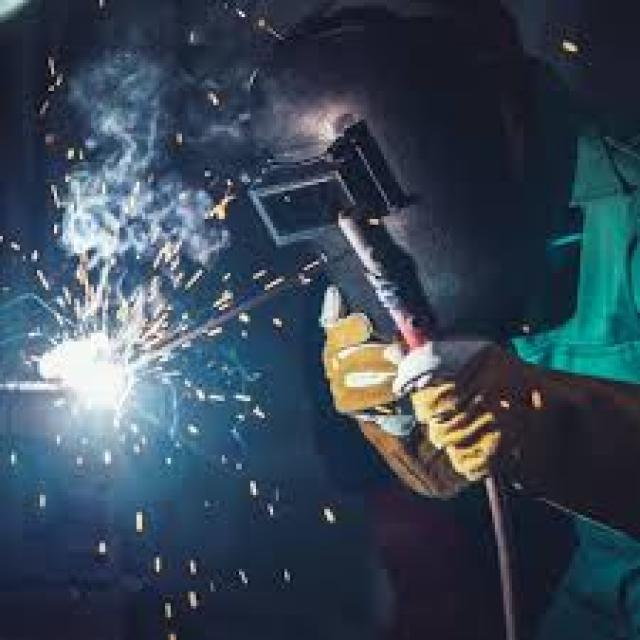welding: (44, 346, 124, 403)
